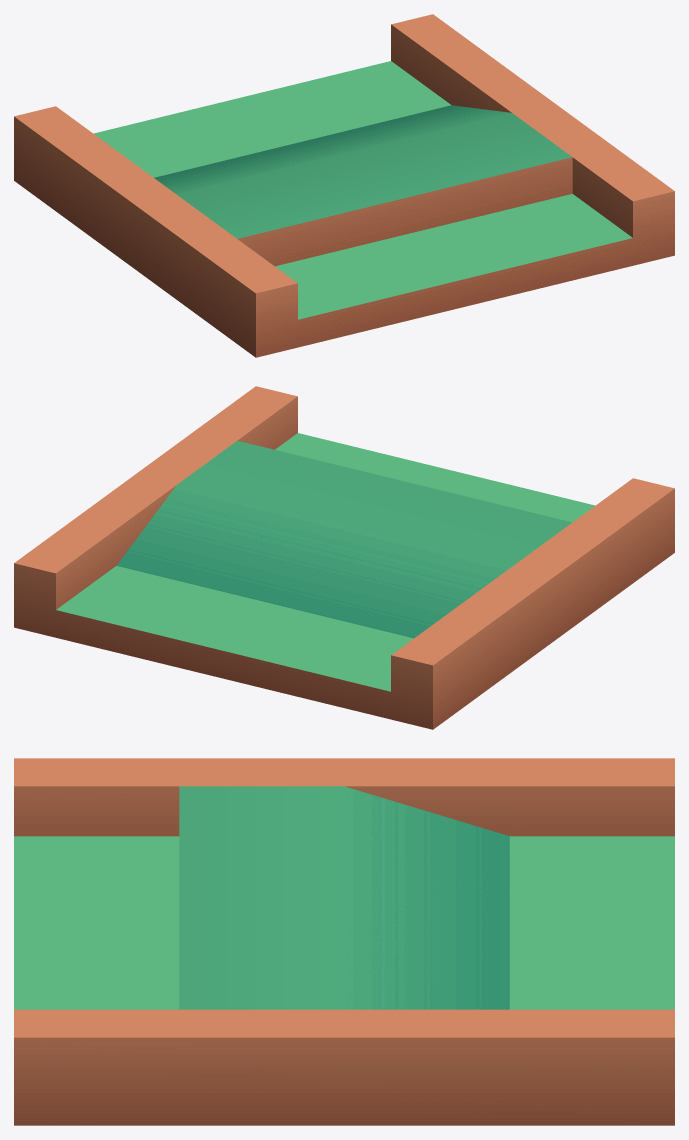
Rendered from ramp-square.glb.
The picture shows the model from 3 angles, top to bottom: view 1: azimuth 30°, elevation 25°; view 2: azimuth 150°, elevation 25°; view 3: azimuth 270°, elevation 25°; orthographic projection. The views are drawn at different scales.
Parts seen in each view (by area): view 1: ramp-square; view 2: ramp-square; view 3: ramp-square.
Boxes of the visible parts, x1,y1,x2,y2 form: ramp-square: [14, 14, 674, 357]; ramp-square: [14, 386, 674, 729]; ramp-square: [14, 758, 674, 1125].
Bounding box in the file's own units: 0.9999 × 0.1467 × 0.9999.
1 material, 1 textured.
